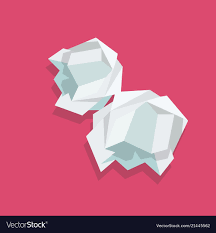crumpled paper: (86, 76, 190, 180), (50, 37, 124, 111)
